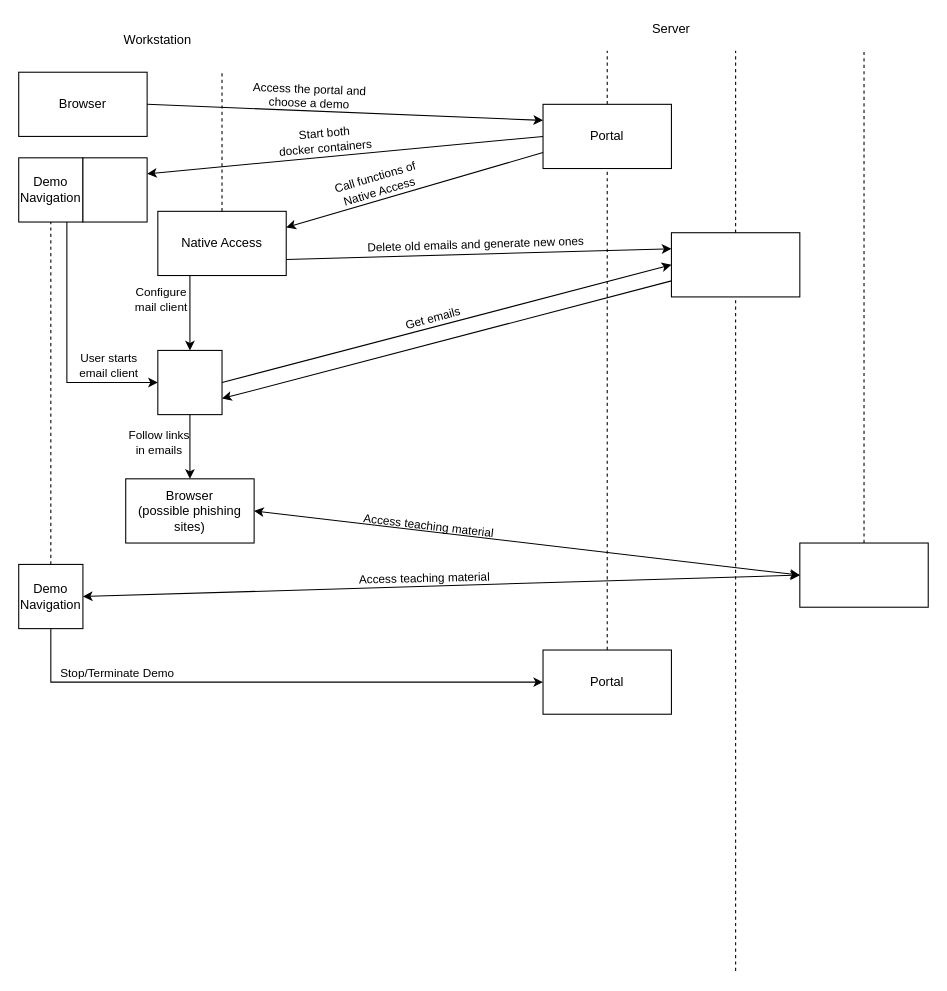
The diagram is 947 pixels wide and 991 high, and some of its shapes have lost their labels. The centre of each missing label's shape, as x and y in pixels:
"Email Client (Thunderbird)" belongs at (189,382).
"Email Server" belongs at (735,264).
"Flask for Phishing Sites" belongs at (114,189).
"Teaching" belongs at (863,574).
